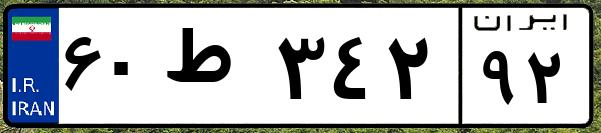0: (110, 28, 158, 98)
2: (385, 28, 445, 110), (525, 38, 570, 115)
3: (270, 28, 330, 110)
4: (330, 28, 385, 110)
6: (57, 26, 110, 100)
9: (475, 38, 525, 113)
ط: (158, 20, 270, 120)
